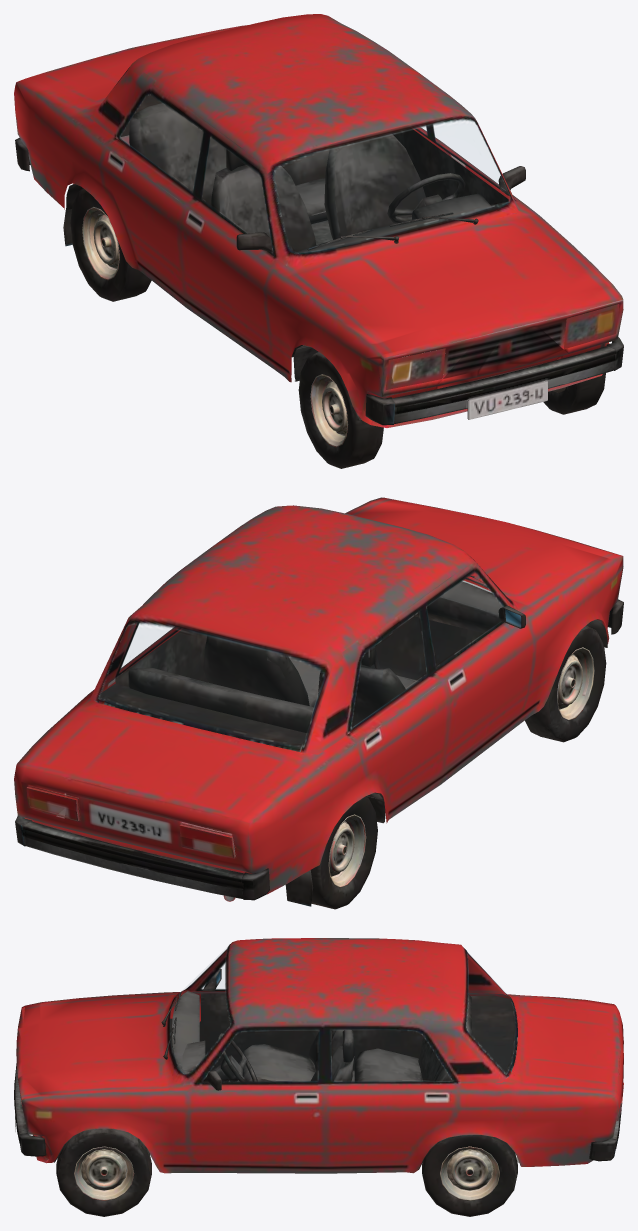
Rendered from cv-lada2107.glb.
The picture shows the model from 3 angles, top to bottom: view 1: azimuth 30°, elevation 25°; view 2: azimuth 150°, elevation 25°; view 3: azimuth 270°, elevation 25°; orthographic projection. The views are drawn at different scales.
Parts seen in each view (by area): view 1: lada_riva_body_lp_body_0, lamp_head_R, lamp_head_L; view 2: lada_riva_body_lp_body_0; view 3: lada_riva_body_lp_body_0.
Boxes of the visible parts, <box> form: lada_riva_body_lp_body_0: <box>14,14,623,468</box>; lamp_head_R: <box>385,348,445,390</box>; lamp_head_L: <box>564,304,619,348</box>; lada_riva_body_lp_body_0: <box>14,497,623,909</box>; lada_riva_body_lp_body_0: <box>14,938,623,1216</box>.
Size of the model in its own units: 1.8 by 1.5 by 4.13.
2 materials, 2 textured.
